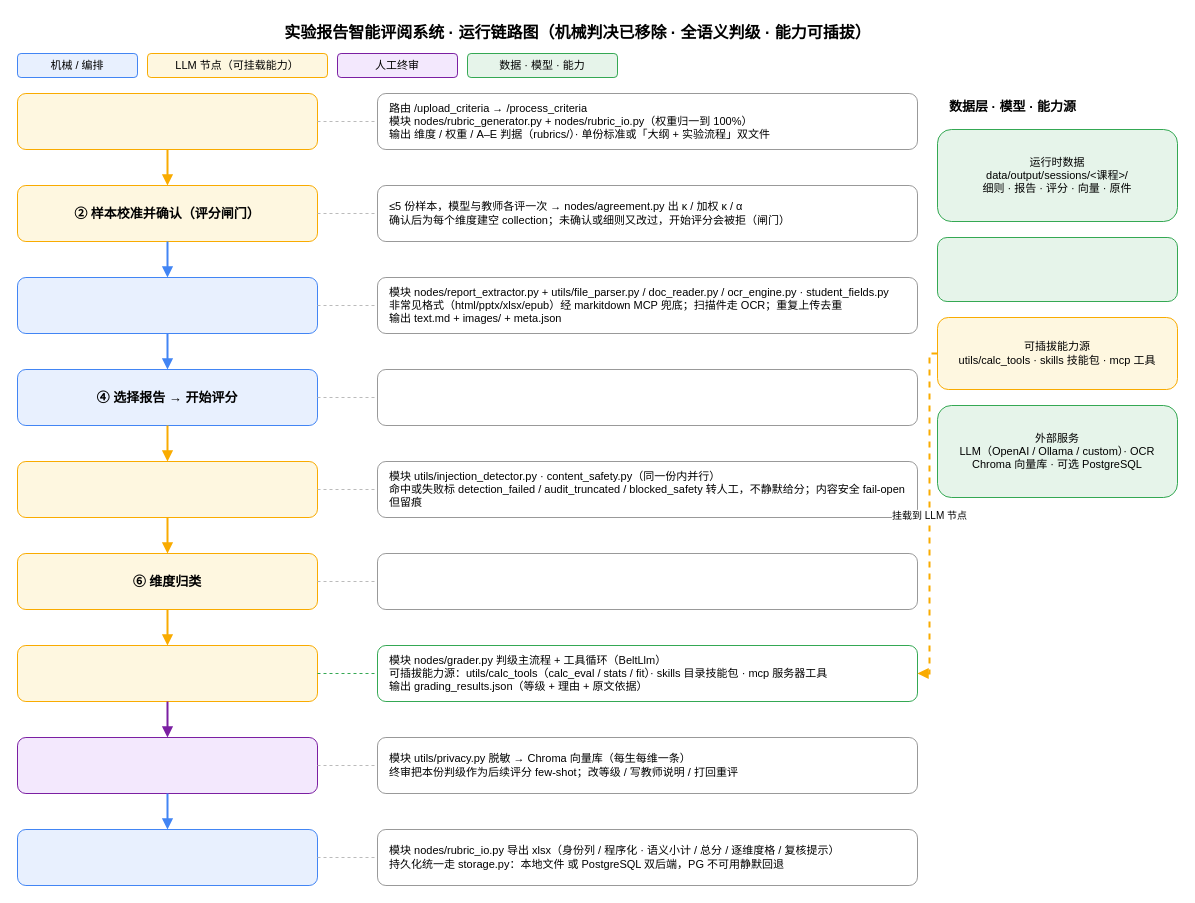
Image size: 1195x903. Some labels were removed from this diagram. The centre of each missing label's shape, as x and y in pixels:
① 上传评分标准 → 生成细则（Rubric）: pixel 167 121
③ 上传并提取报告: pixel 167 305
⑤ 注入检测 与 内容安全（并行前置）: pixel 167 489
⑦ 逐维度判级 A–E（function calling）: pixel 167 673
⑧ 终审入库 → 成为 RAG 范例: pixel 167 765
⑨ 导出成绩 Excel: pixel 167 857
并发评分（默认 3，ERG_GRADING_WORKERS 1–8）；后台线程，可离开页面 进度与状态见流程页 /api/flow 与工作台: pixel 647 397
模块 nodes/grader.py（归类） 模型自创维度名按 精确 → 包含 → 相似度 对齐回细则，也接受序号；仍为空用关键词兜底，最后才进「未挂载内容」: pixel 647 581
配置文件（均不入库） config/config.yaml · config/mcp.yaml: pixel 1057 269
